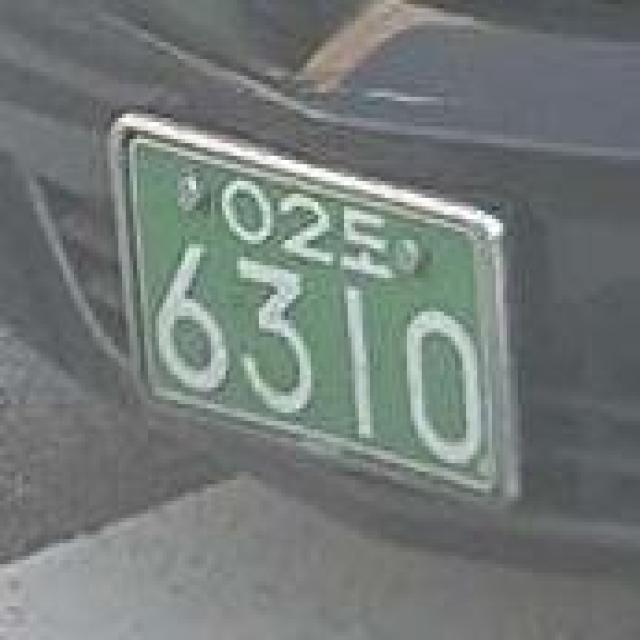illegal_plate: (103, 102, 528, 512)
